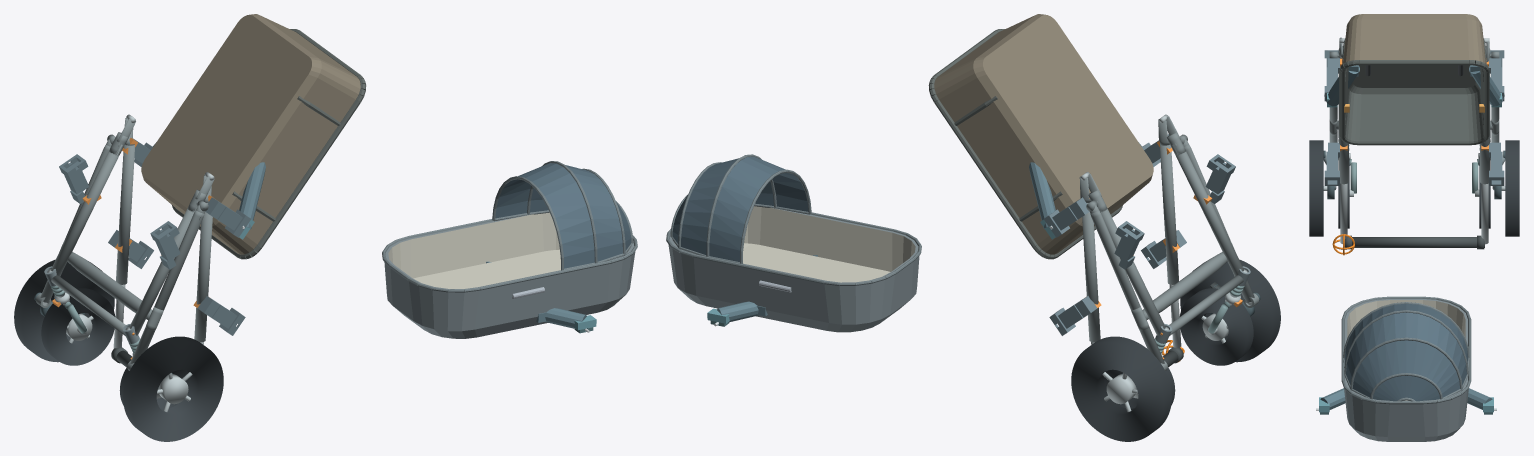
Rendered from D15_w550_state3_wheel_M.glb.
3 views of the same model, side by side, from view 1: azimuth 30°, elevation 25°; view 2: azimuth 150°, elevation 25°; view 3: azimuth 270°, elevation 25° (orthographic). The views are drawn at different scales.
Visible parts, largest first — view 1: D15_Upper, D15_Lower, RL_tire.004, FR_tire.004, RR_tire.004, main_upper_1.005, main_lower_1.005, V46_rear_leg_-1.005, main_upper_-1.005, V46_rearbar.005, main_lower_-1.005, D15_Lower_Mount_M (+8 smaller); view 2: D15_Upper, D15_Lower, RR_tire.004, FL_tire.004, RL_tire.004, main_upper_-1.005, main_lower_-1.005, V46_rear_leg_1.005, main_upper_1.005, V46_rearbar.005, main_lower_1.005, D15_Lower_Mount_M (+8 smaller); view 3: D15_Lower, D15_Upper, RL_tire.004, RR_tire.004, round_handle.004, D15_Lower_Mount_M, D15_Upper_Mount_H, Universal_Cabin_Receiver_H_1, Universal_Cabin_Receiver_H_-1, main_upper_1.005, main_upper_-1.005, handle_slider_1.004 (+6 smaller).
Part boxes in pixels (box(x1,y1,x2,y2)): D15_Upper: box(382, 161, 637, 338); D15_Lower: box(141, 14, 366, 259); RL_tire.004: box(123, 336, 223, 441); FR_tire.004: box(41, 288, 115, 365); RR_tire.004: box(14, 259, 114, 362); main_upper_1.005: box(116, 144, 134, 284); main_lower_1.005: box(51, 144, 122, 276); V46_rear_leg_-1.005: box(130, 210, 204, 363); main_upper_-1.005: box(194, 203, 212, 342); V46_rearbar.005: box(67, 252, 152, 319); main_lower_-1.005: box(129, 207, 197, 335); D15_Lower_Mount_M: box(152, 142, 265, 239); D15_Upper: box(666, 154, 921, 332); D15_Lower: box(928, 14, 1153, 259); RR_tire.004: box(1071, 336, 1171, 441); FL_tire.004: box(1179, 288, 1253, 365); RL_tire.004: box(1180, 259, 1280, 362); main_upper_-1.005: box(1160, 144, 1178, 284); main_lower_-1.005: box(1172, 144, 1243, 276); V46_rear_leg_1.005: box(1090, 210, 1164, 363); main_upper_1.005: box(1082, 203, 1100, 342); V46_rearbar.005: box(1142, 252, 1227, 319); main_lower_1.005: box(1097, 207, 1165, 335); D15_Lower_Mount_M: box(1029, 142, 1142, 239); D15_Lower: box(1339, 14, 1489, 145); D15_Upper: box(1341, 296, 1471, 441); RL_tire.004: box(1309, 140, 1323, 236); RR_tire.004: box(1505, 140, 1519, 236); round_handle.004: box(1352, 237, 1484, 247); D15_Lower_Mount_M: box(1324, 65, 1504, 107); D15_Upper_Mount_H: box(1316, 388, 1496, 414); Universal_Cabin_Receiver_H_1: box(1489, 142, 1504, 185); Universal_Cabin_Receiver_H_-1: box(1324, 142, 1339, 185); main_upper_1.005: box(1480, 66, 1490, 184); main_upper_-1.005: box(1338, 66, 1348, 184); handle_slider_1.004: box(1481, 183, 1488, 244).
Bounding box in the file's own units: 1.76 × 1.01 × 0.656.
